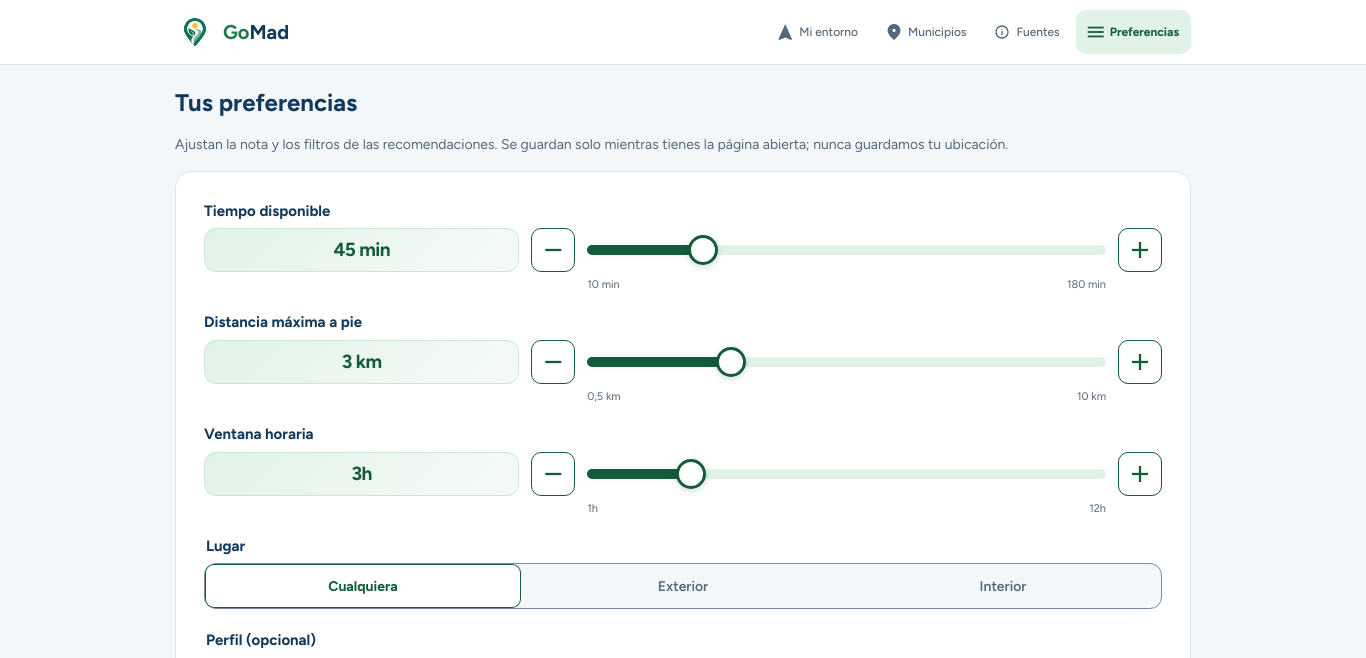
it: Perfil › el resumen de Inicio refleja los cambios
Click the radio button labelled "Interior": (1003,586) [980,578,1026,595]
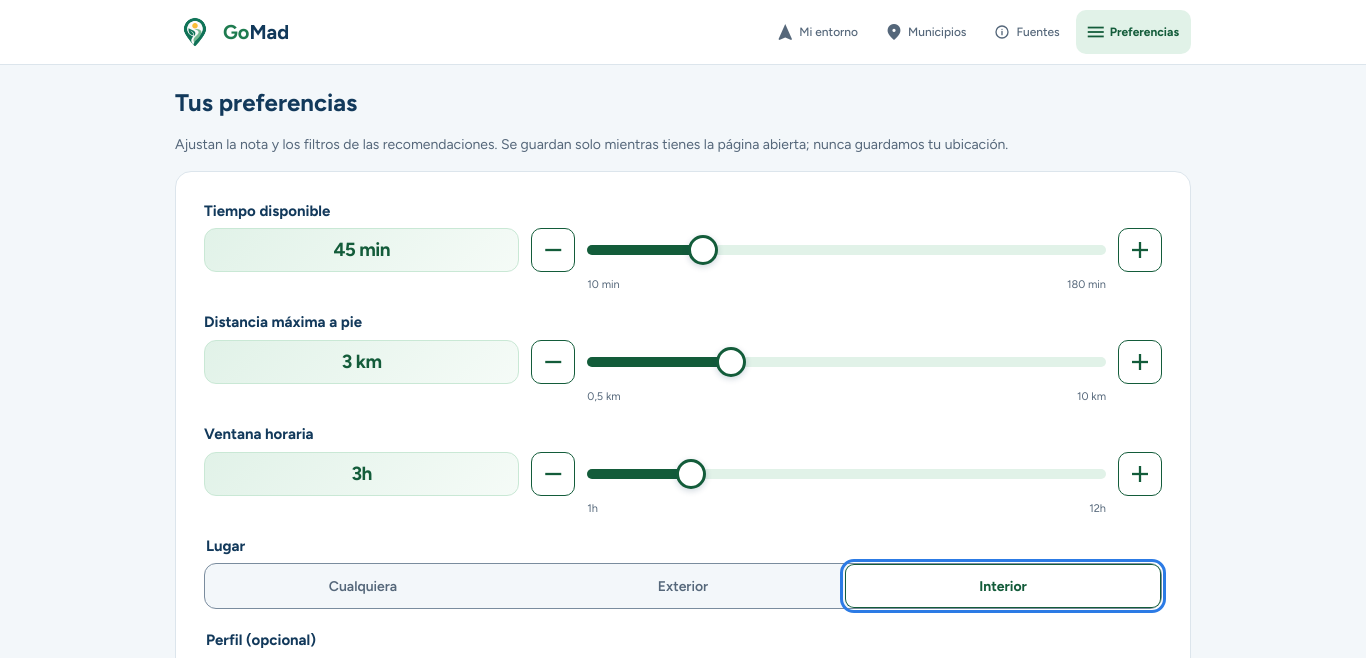
Click the link "Mi entorno": (818,32) [777,24,858,40]
(page scrolled)
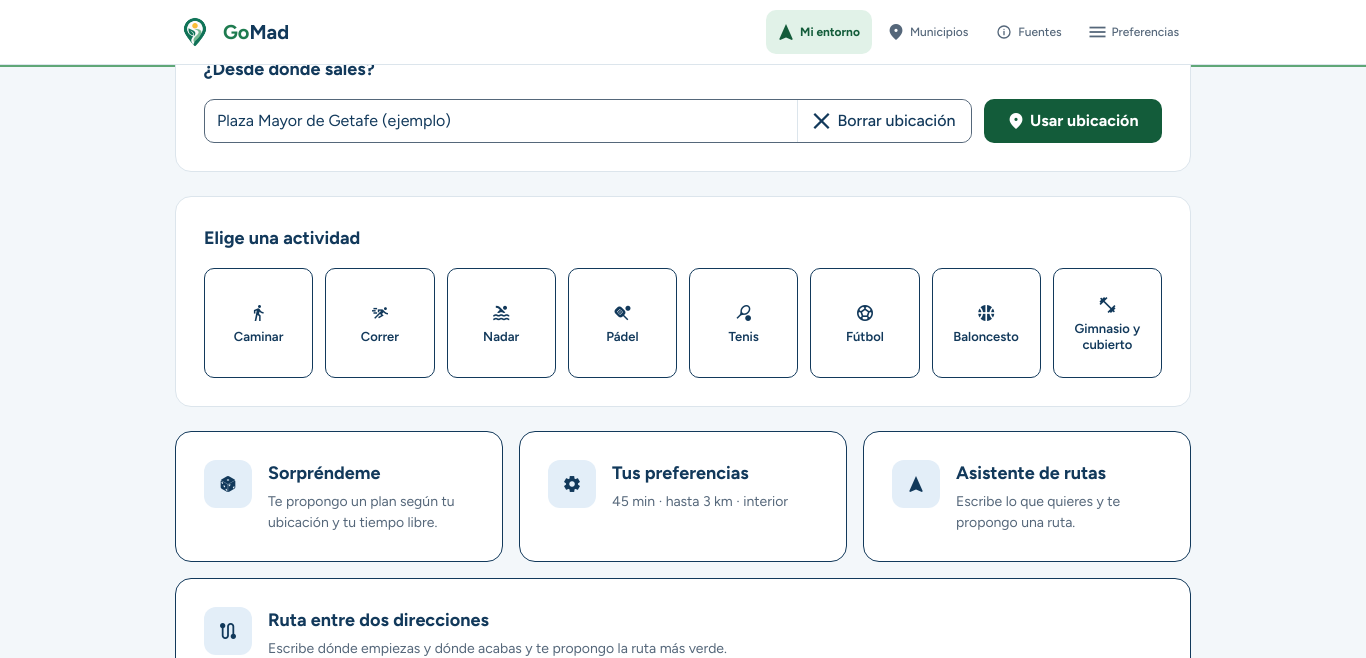
Check: the text "45 min · hasta 3 km · interior" is shown, box [612,491,788,512]
